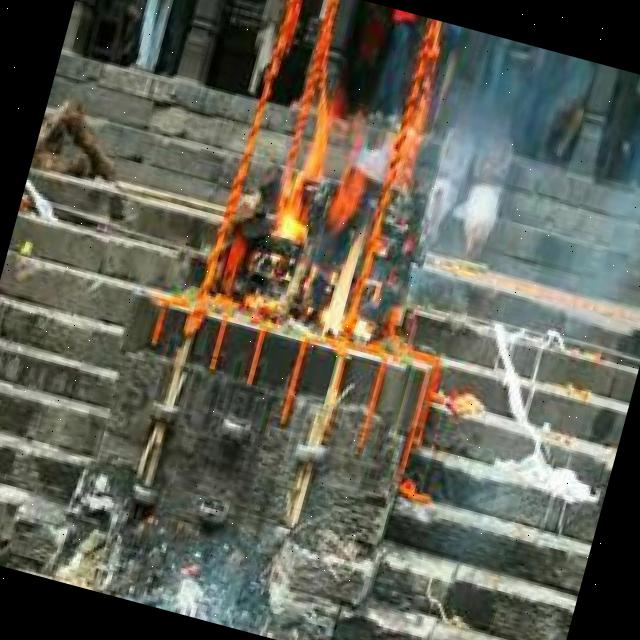fire: (240, 79, 409, 348)
